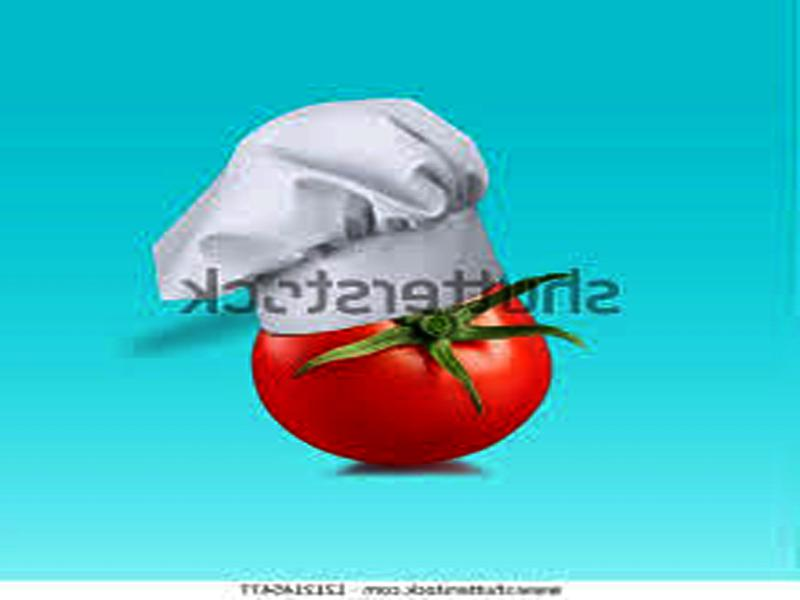Tomato: (252, 282, 546, 461)
